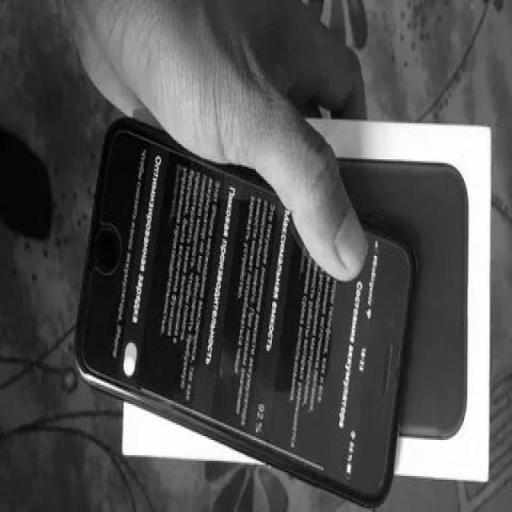phone: (67, 131, 423, 512)
